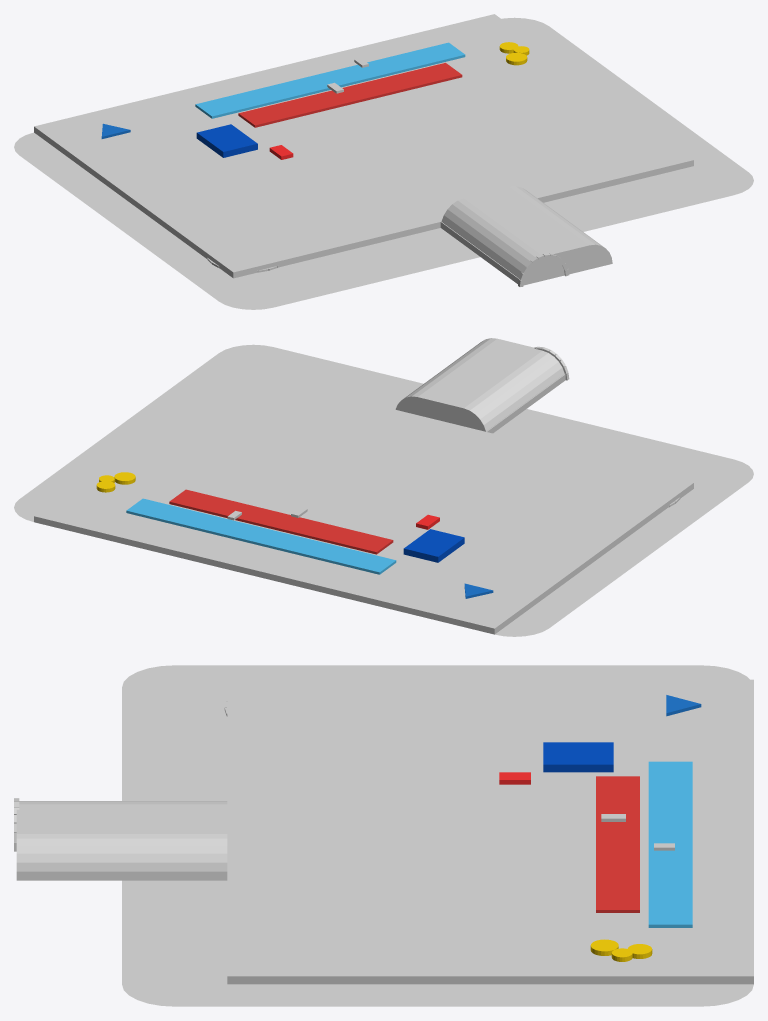
Rendered from Hagtags Fomex cán decal.obj.
3 views of the same model, one above another, from view 1: azimuth 30°, elevation 25°; view 2: azimuth 150°, elevation 25°; view 3: azimuth 270°, elevation 25° (orthographic). The views are drawn at different scales.
Visible parts, largest first — view 1: fomexwhite, lightblue, redbg, mmblue, thanh, coingold; view 2: fomexwhite, lightblue, redbg, mmblue, coingold; view 3: fomexwhite, lightblue, redbg, mmblue, coingold.
Part boxes in pixels (bbox=[...]): fomexwhite: bbox=[14, 14, 753, 309]; lightblue: bbox=[195, 42, 465, 118]; redbg: bbox=[238, 62, 462, 127]; mmblue: bbox=[196, 124, 257, 157]; thanh: bbox=[207, 253, 569, 286]; coingold: bbox=[499, 42, 529, 65]; fomexwhite: bbox=[14, 338, 753, 636]; lightblue: bbox=[126, 498, 396, 574]; redbg: bbox=[169, 489, 393, 554]; mmblue: bbox=[403, 529, 464, 562]; coingold: bbox=[96, 472, 135, 492]; fomexwhite: bbox=[16, 665, 753, 1006]; lightblue: bbox=[648, 761, 692, 927]; redbg: bbox=[596, 776, 639, 912]; mmblue: bbox=[543, 742, 613, 772]; coingold: bbox=[590, 939, 652, 961].
Size of the model in its own units: 0.46 by 0.023 by 0.4215.
